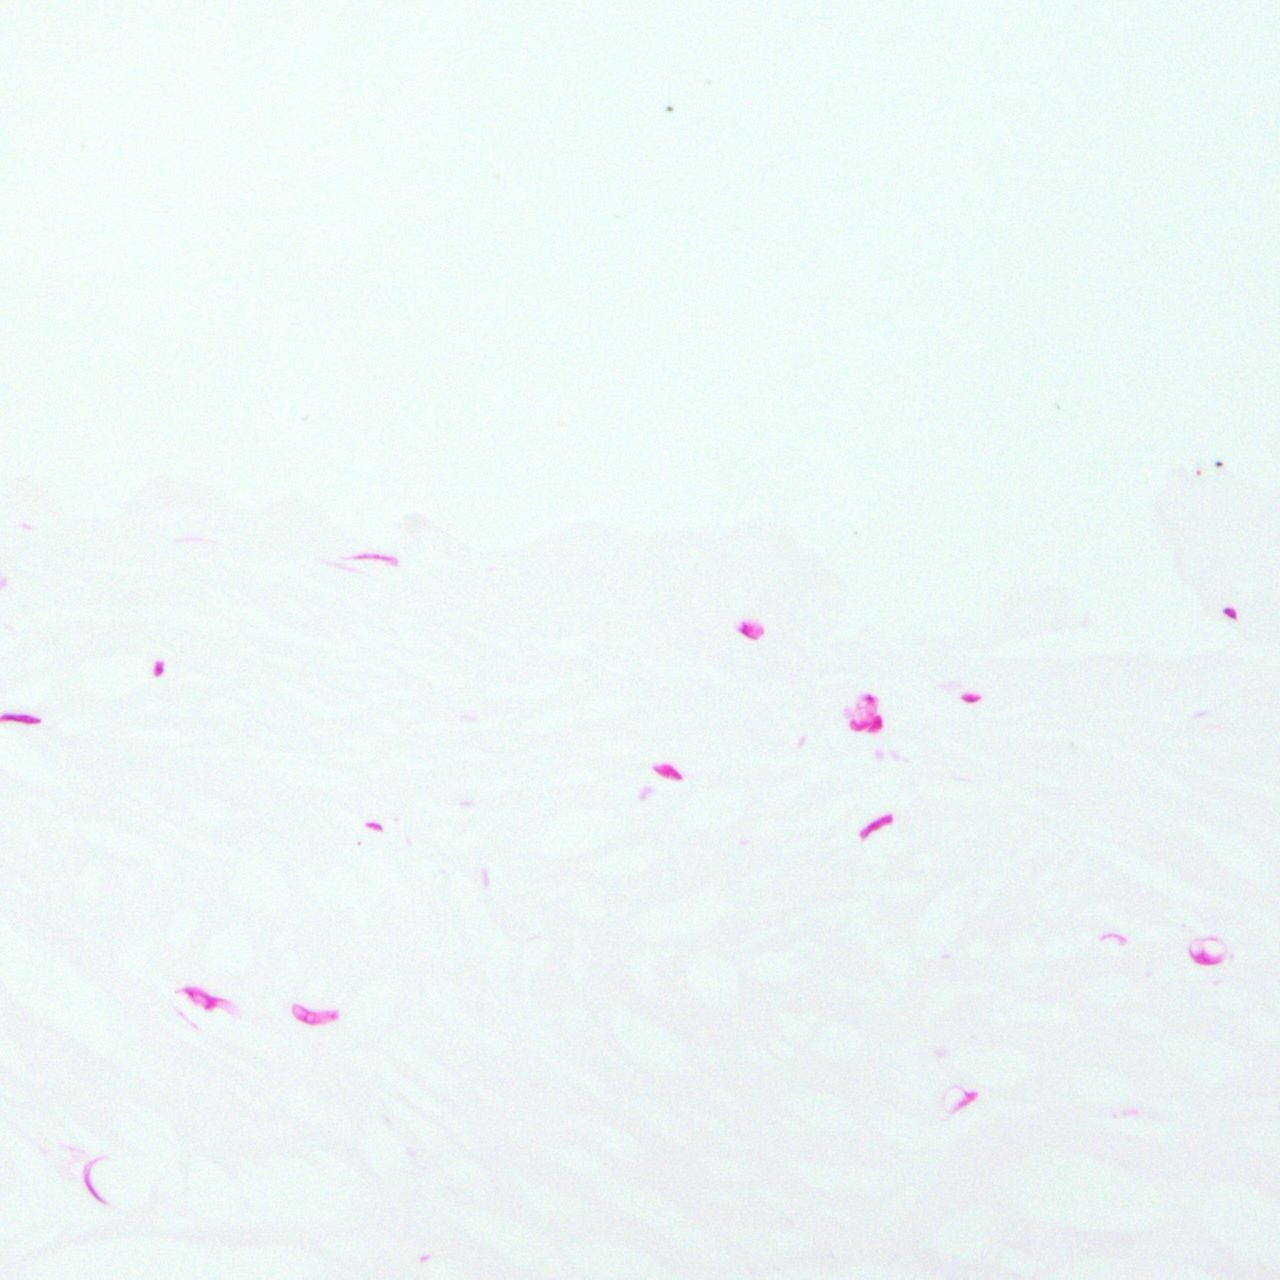dust: (1216, 461, 1223, 467), (666, 105, 672, 111), (1196, 470, 1200, 474)
nucleus-FG: (175, 980, 222, 1015), (856, 810, 894, 839), (651, 755, 685, 787), (738, 617, 767, 642), (1223, 602, 1241, 620), (365, 818, 384, 832), (961, 693, 982, 702), (154, 661, 164, 675)
